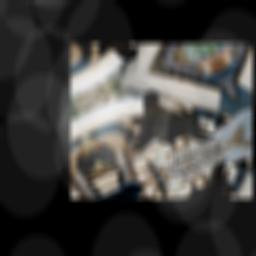Crow: (128, 73, 221, 172)
